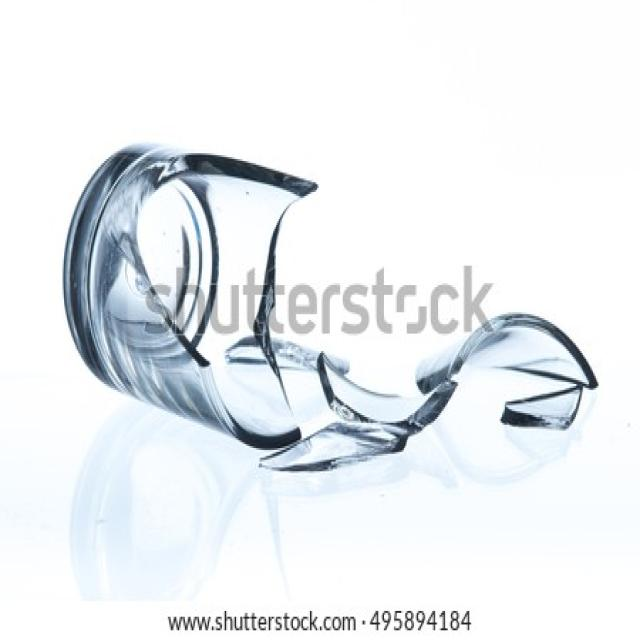Dry Waste: (60, 142, 319, 448), (415, 309, 599, 399)
